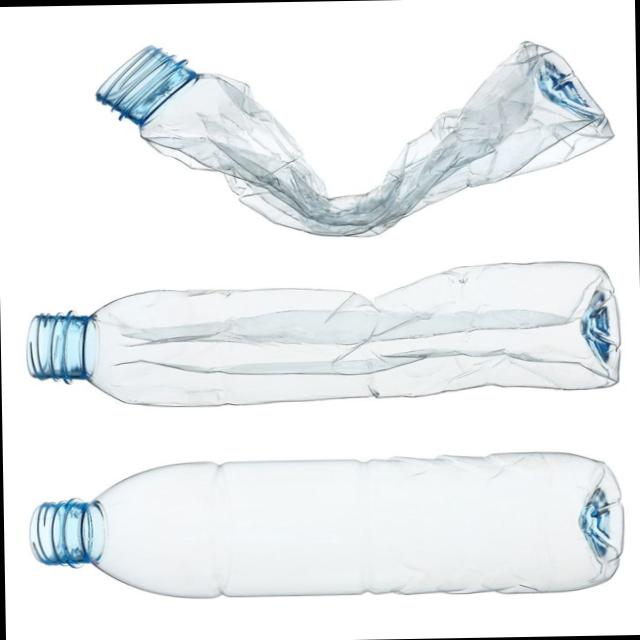plastic_bottle: (64, 15, 613, 239), (26, 238, 624, 423), (29, 429, 639, 608)
